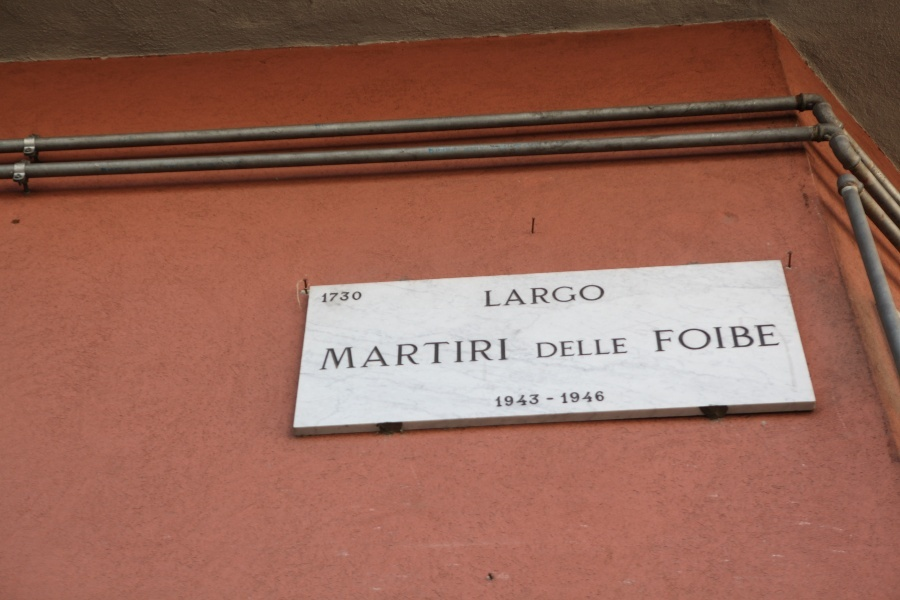text: (337, 338, 352, 375), (353, 338, 368, 375), (369, 338, 384, 375), (385, 338, 400, 375), (401, 338, 416, 375), (417, 338, 432, 375), (433, 338, 448, 375), (449, 338, 464, 375), (465, 338, 480, 375), (481, 338, 496, 375), (657, 324, 672, 356), (673, 324, 688, 356), (689, 324, 704, 356), (705, 324, 720, 356), (721, 324, 736, 356), (737, 324, 752, 356), (753, 324, 768, 356), (497, 338, 509, 375), (497, 283, 512, 312), (513, 283, 528, 312), (529, 283, 544, 312), (545, 283, 560, 312), (561, 283, 576, 312), (577, 283, 592, 312), (593, 283, 606, 312), (326, 338, 336, 375), (769, 324, 780, 356), (484, 283, 496, 312), (545, 338, 560, 361), (561, 338, 576, 361), (577, 338, 592, 361), (593, 338, 608, 361), (609, 338, 624, 361), (497, 389, 512, 411), (513, 389, 528, 411), (529, 389, 544, 411), (545, 389, 560, 411), (561, 389, 576, 411), (577, 389, 592, 411), (593, 389, 608, 411), (337, 291, 352, 307), (322, 291, 336, 307), (353, 291, 367, 307), (537, 338, 544, 361), (625, 338, 630, 361), (493, 389, 496, 411), (654, 324, 656, 356), (609, 389, 610, 411)
